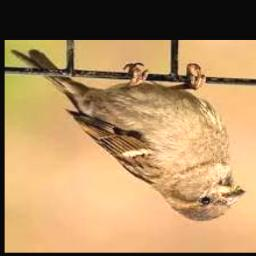Sparrow: (12, 50, 246, 221)
